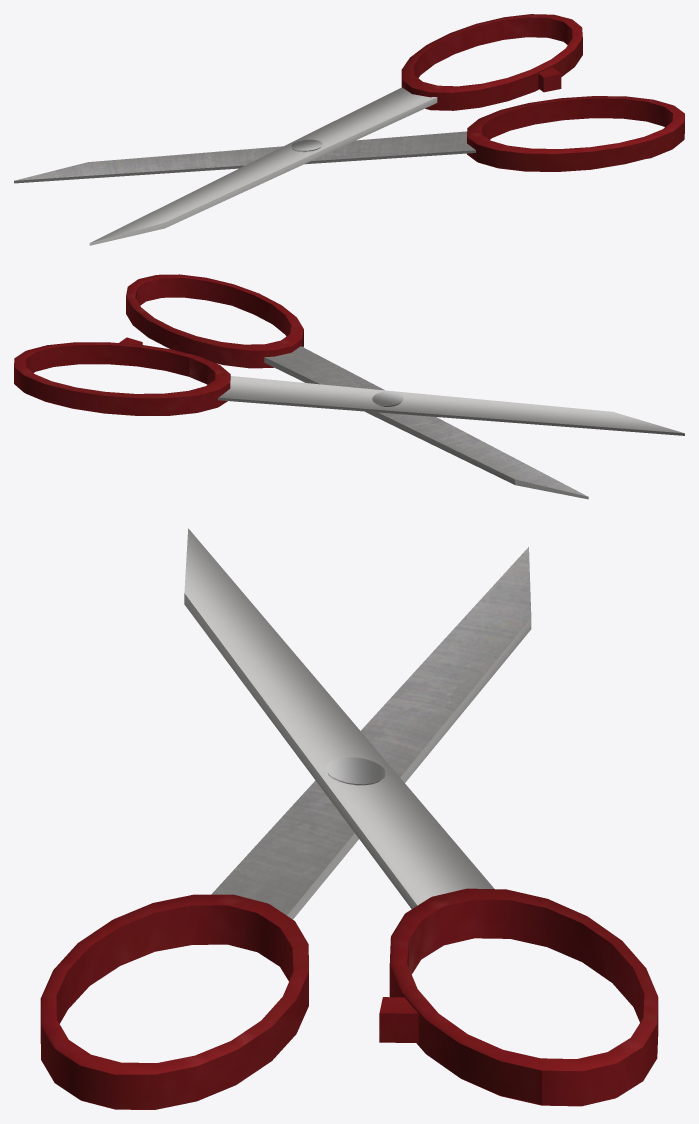
The model's file is Scissors.FBX.
3 views of the same model, one above another, from view 1: azimuth 30°, elevation 25°; view 2: azimuth 150°, elevation 25°; view 3: azimuth 270°, elevation 25° (orthographic). The views are drawn at different scales.
Parts seen in each view (by area): view 1: Blade001; view 2: Blade001; view 3: Blade001.
Boxes of the visible parts, <box> form: Blade001: <box>14,14,684,245</box>; Blade001: <box>14,274,684,499</box>; Blade001: <box>40,528,658,1109</box>.
Size of the model in its own units: 8.56 by 0.3505 by 4.
1 material, 1 textured.
